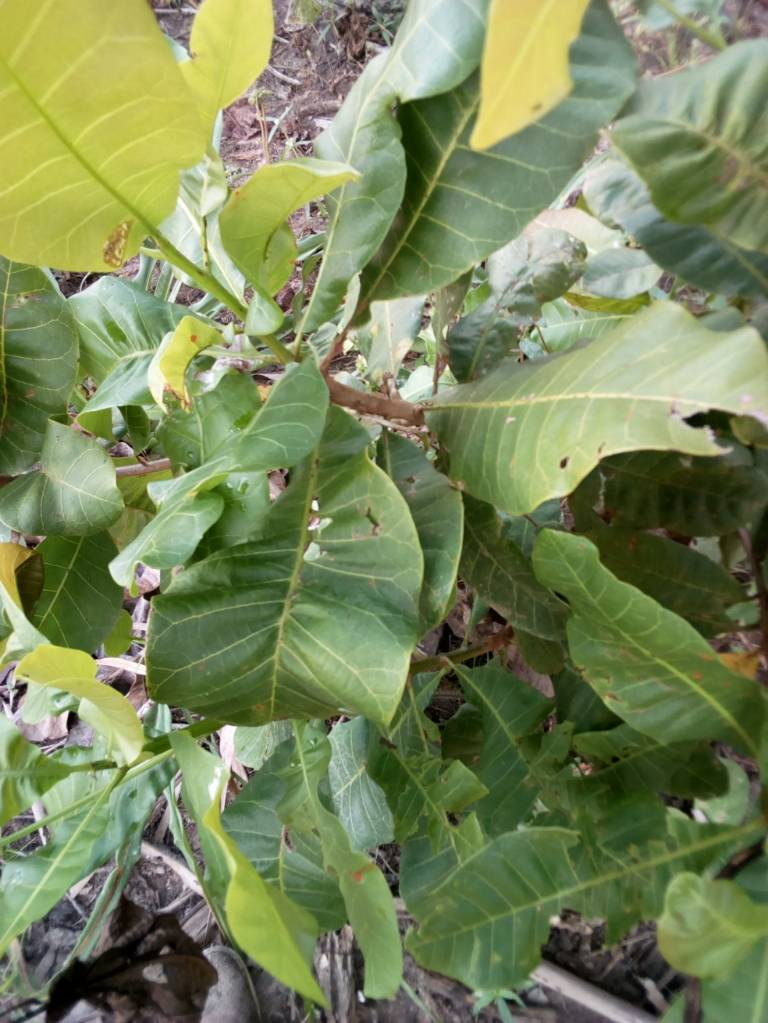Anoplonemis curvipes: (116, 402, 450, 755)
